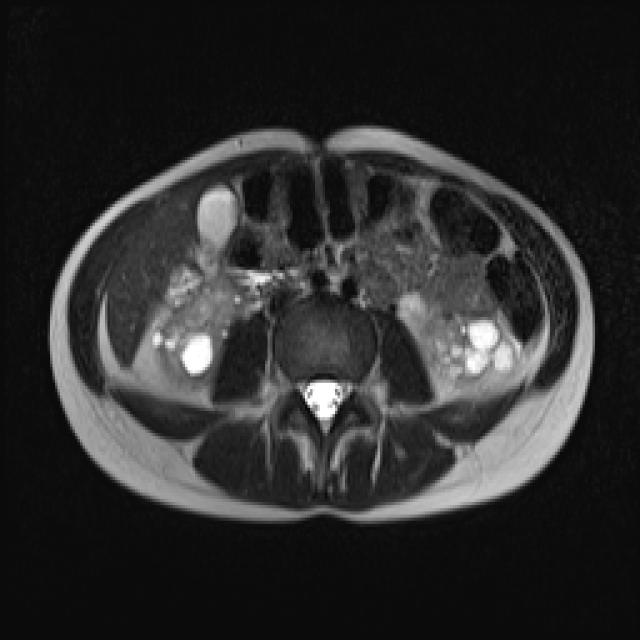sag: (155, 274, 242, 389)
sol: (400, 293, 516, 392)
